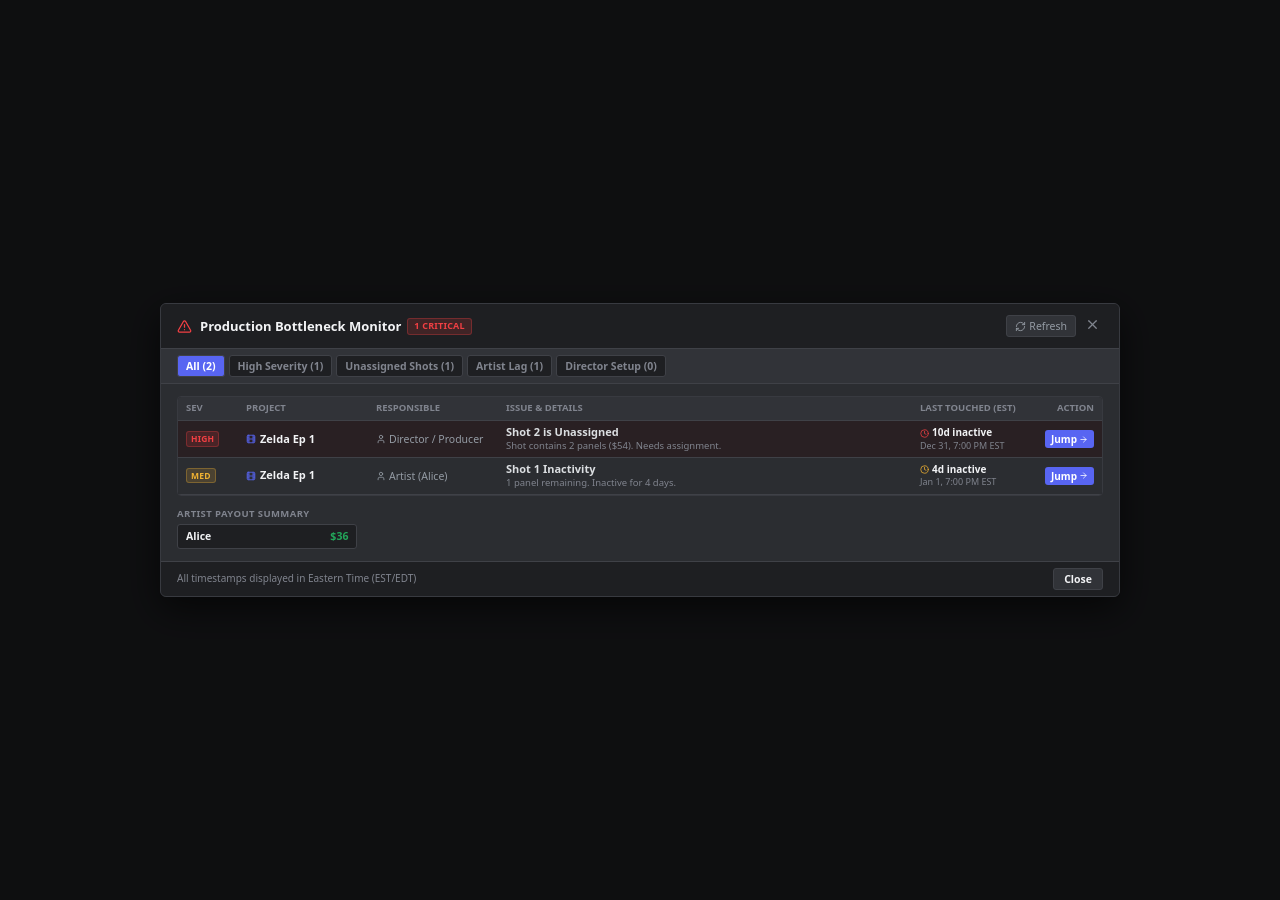
Test: <ProducerBottlenecks /> › filters bottlenecks when filter buttons are clicked
Expected: the text "Shot 2 is Unassigned" is shown, [506, 424, 619, 439]
// Filter to only ARTIST
Click the button "Artist Lag (1)": (510, 366) [467, 355, 552, 377]
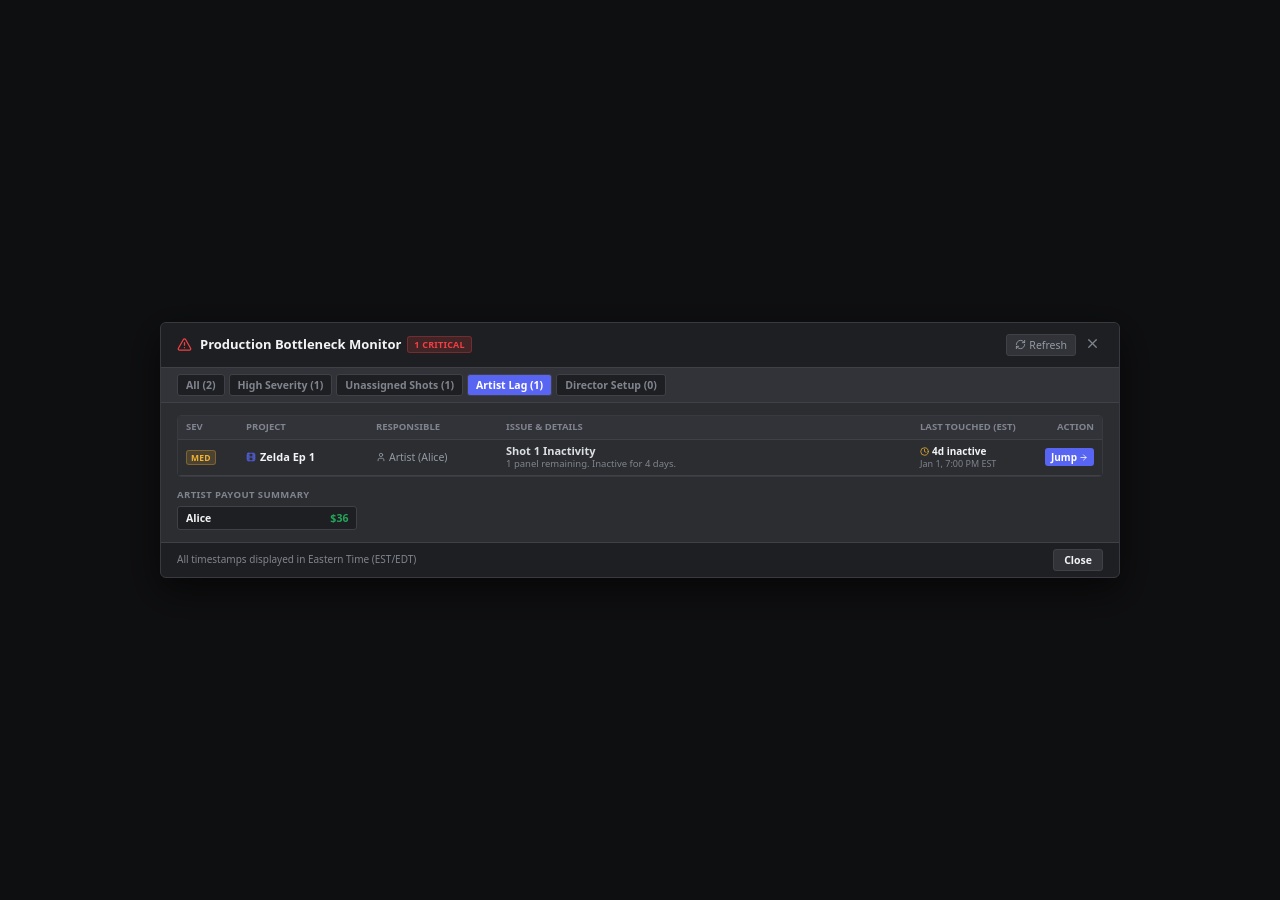
Expected: the text "Shot 1 Inactivity" is shown, [506, 443, 596, 458]
Expected: the text "Shot 2 is Unassigned" is gone
